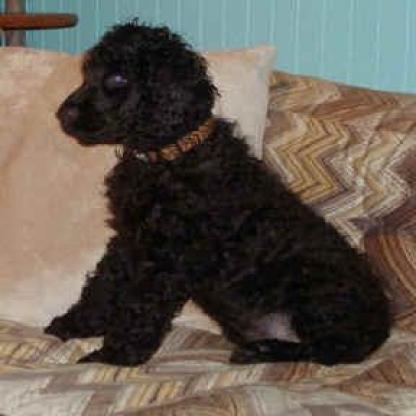Irish_water_spaniel: (36, 13, 402, 369)
